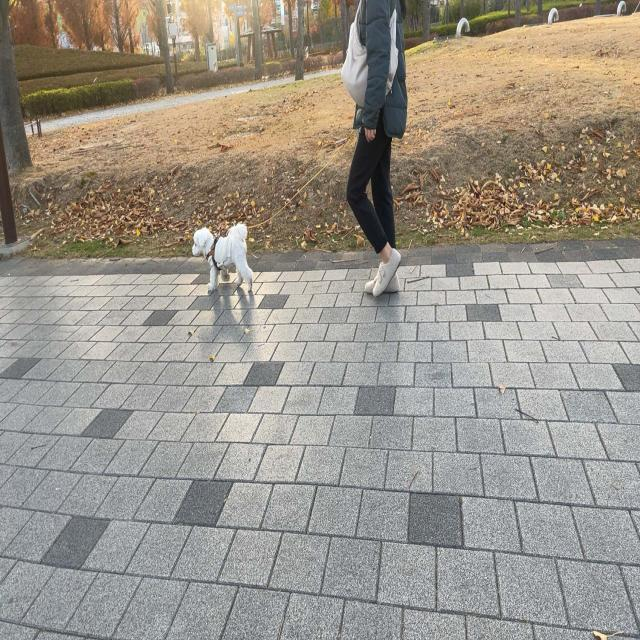Leashed_Dog: (193, 90, 374, 294)
